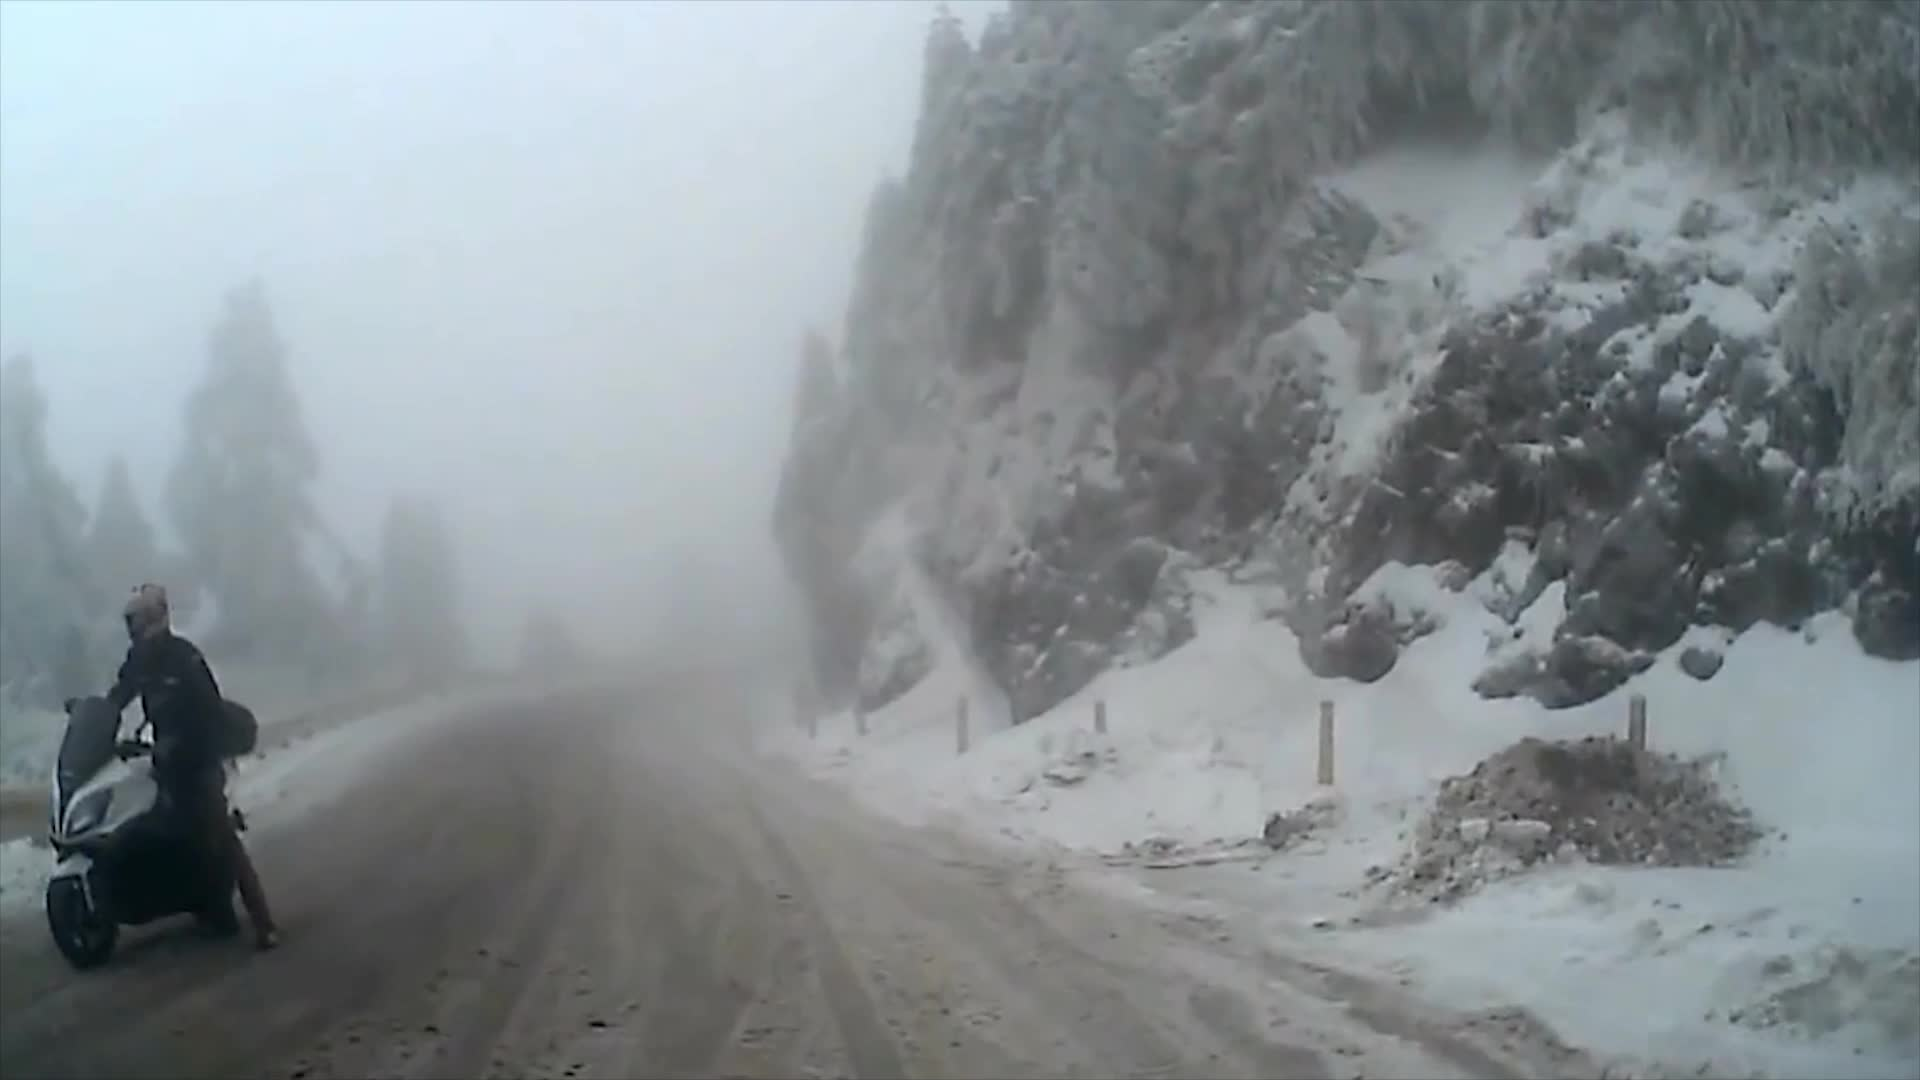pedestrian: (82, 568, 282, 945)
